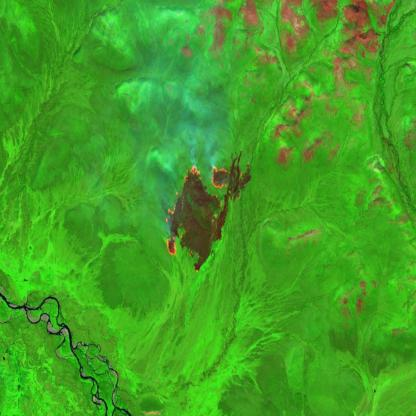fire: (164, 160, 230, 275)
